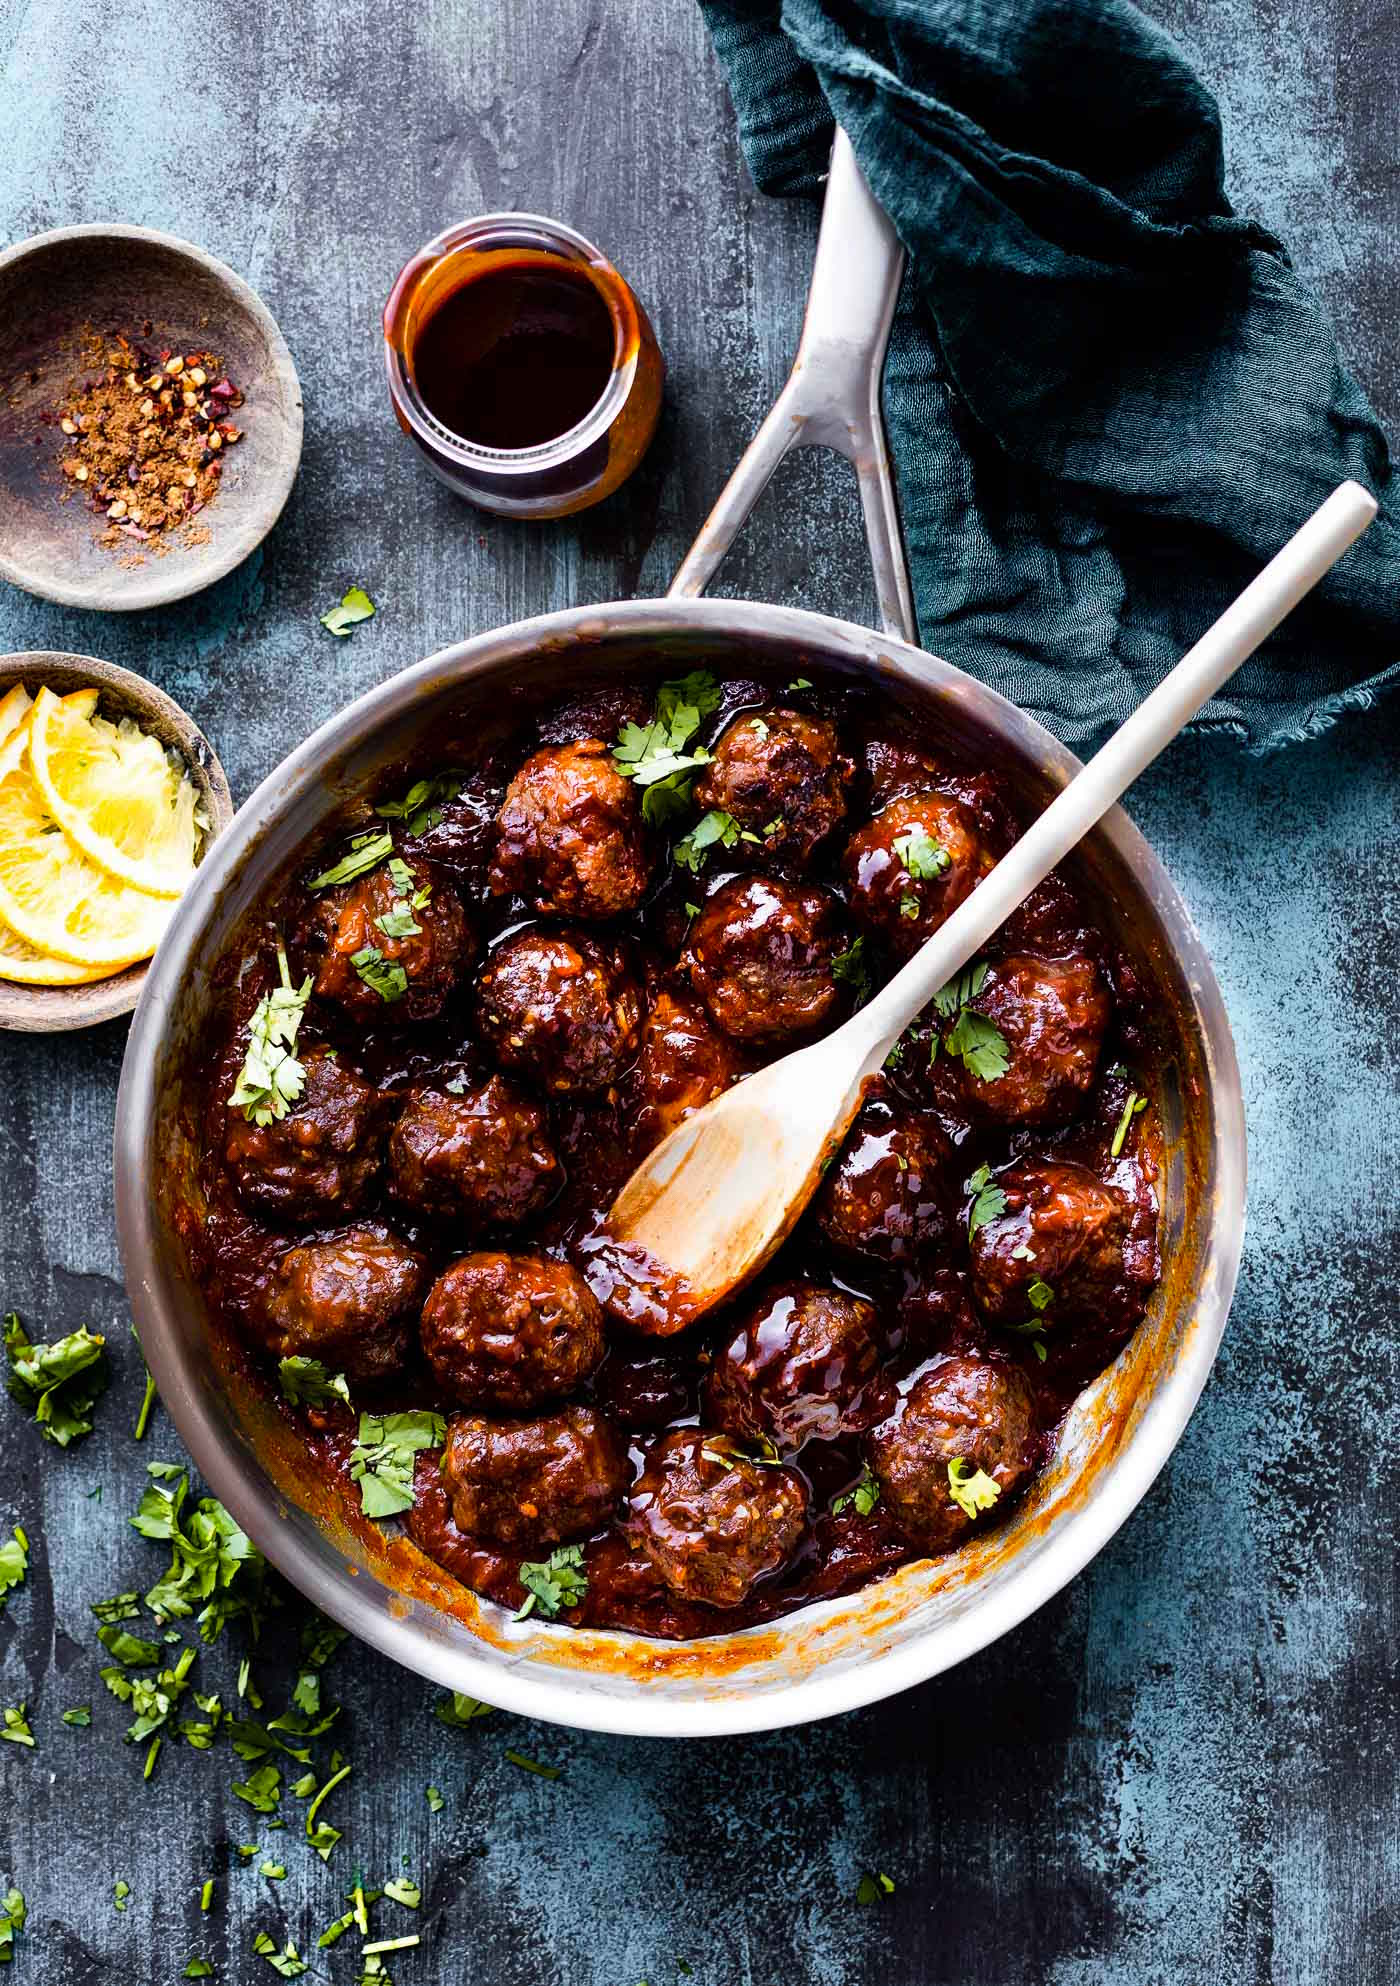meatballs: (233, 729, 1152, 1632)
